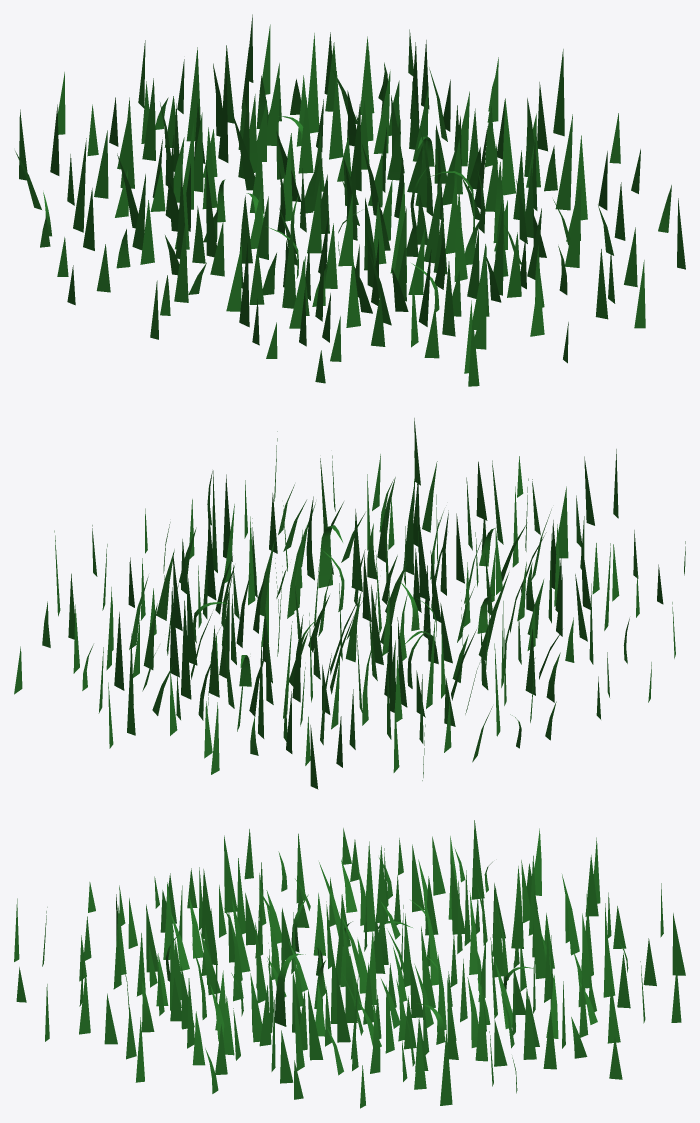
The model's file is grass_patches_set_ellipse_small.fbx.
3 renders of one model, top to bottom at view 1: azimuth 30°, elevation 25°; view 2: azimuth 150°, elevation 25°; view 3: azimuth 270°, elevation 25°, orthographic. The views are drawn at different scales.
Parts seen in each view (by area): view 1: grass_ground_paint_A383, grass_ground_paint_A416, grass_ground_paint_A718, grass_ground_paint_A550, grass_ground_paint_A285, grass_ground_paint_A353, grass_ground_paint_B142, grass_ground_paint_A323, grass_ground_paint_A720, grass_ground_paint_A549, grass_ground_paint_B294, grass_ground_paint_A551 (+11 smaller); view 2: grass_ground_paint_E31, grass_ground_paint_A718, grass_ground_paint_B142; view 3: grass_ground_paint_E31, grass_ground_paint_A455, grass_ground_paint_A616, grass_ground_paint_C70, grass_ground_paint_C102, grass_ground_paint_A589, grass_ground_paint_A358, grass_ground_paint_A318, grass_ground_paint_B264, grass_ground_paint_A581, grass_ground_paint_A319, grass_ground_paint_A449 (+16 smaller).
Boxes of the visible parts, x1=… form: grass_ground_paint_A383: x1=555, y1=114, x2=572, y2=210; grass_ground_paint_A416: x1=502, y1=99, x2=515, y2=195; grass_ground_paint_A718: x1=307, y1=33, x2=319, y2=133; grass_ground_paint_A550: x1=329, y1=71, x2=343, y2=159; grass_ground_paint_A285: x1=565, y1=185, x2=581, y2=267; grass_ground_paint_A353: x1=424, y1=173, x2=441, y2=263; grass_ground_paint_B142: x1=454, y1=189, x2=467, y2=281; grass_ground_paint_A323: x1=282, y1=222, x2=295, y2=308; grass_ground_paint_A720: x1=120, y1=97, x2=134, y2=188; grass_ground_paint_A549: x1=373, y1=71, x2=390, y2=153; grass_ground_paint_B294: x1=142, y1=78, x2=155, y2=160; grass_ground_paint_A551: x1=298, y1=97, x2=313, y2=173; grass_ground_paint_E31: x1=318, y1=525, x2=342, y2=588; grass_ground_paint_A718: x1=181, y1=600, x2=191, y2=699; grass_ground_paint_B142: x1=403, y1=479, x2=415, y2=574; grass_ground_paint_E31: x1=274, y1=953, x2=305, y2=1026; grass_ground_paint_A455: x1=363, y1=841, x2=375, y2=932; grass_ground_paint_A616: x1=532, y1=893, x2=545, y2=978; grass_ground_paint_C70: x1=345, y1=933, x2=357, y2=1022; grass_ground_paint_C102: x1=511, y1=866, x2=523, y2=948; grass_ground_paint_A589: x1=471, y1=820, x2=484, y2=899; grass_ground_paint_A358: x1=224, y1=835, x2=237, y2=912; grass_ground_paint_A318: x1=336, y1=970, x2=350, y2=1042; grass_ground_paint_B264: x1=475, y1=984, x2=487, y2=1061; grass_ground_paint_A581: x1=523, y1=986, x2=536, y2=1059; grass_ground_paint_A319: x1=308, y1=989, x2=323, y2=1060; grass_ground_paint_A449: x1=440, y1=1030, x2=452, y2=1105.
Bounding box in the file's own units: 351 × 63.28 × 408.
